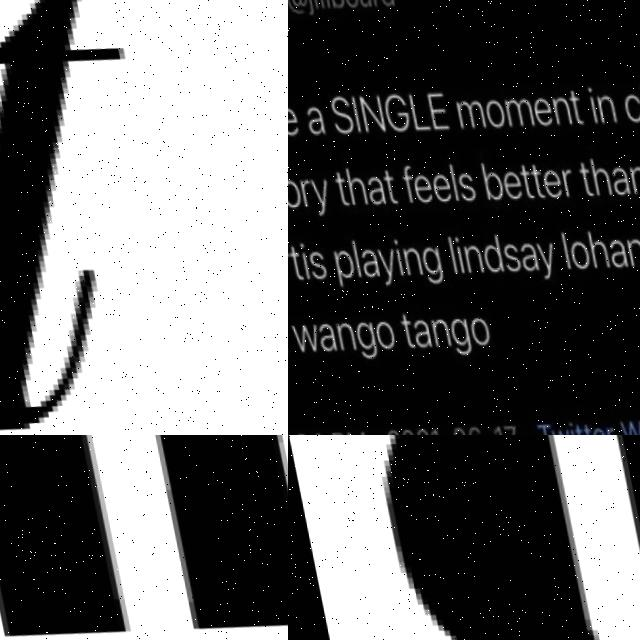2: (455, 422, 474, 435)
3: (491, 420, 508, 435)
D: (316, 435, 640, 640)
M: (0, 435, 288, 640)
T: (0, 0, 193, 435)
